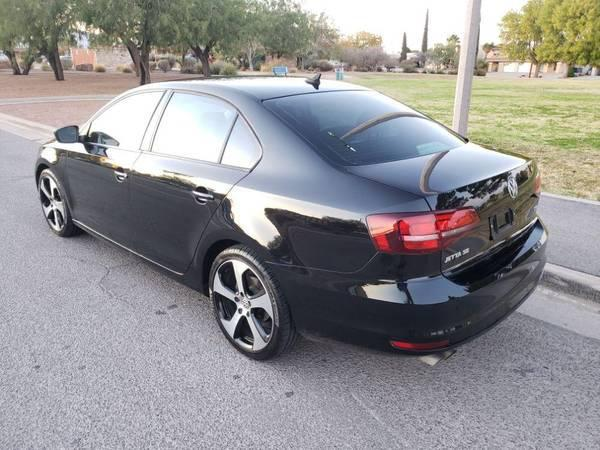Front_Fender: (35, 143, 75, 223)
Front_Left_Door: (66, 141, 144, 256)
Front_Left_Window: (79, 90, 169, 151)
Left_Taillight: (366, 211, 479, 255)
Rear_Bumper: (267, 216, 548, 353)
Rear_Fender: (210, 164, 430, 271)
Rear_Left_Door: (130, 151, 252, 289)
Rear_Left_Window: (144, 90, 261, 173)
Rear_Windshield: (260, 90, 478, 168)
Roof: (79, 74, 362, 168)
Tailgate: (343, 146, 541, 280)
Wheel: (206, 246, 292, 359), (38, 170, 70, 238)
